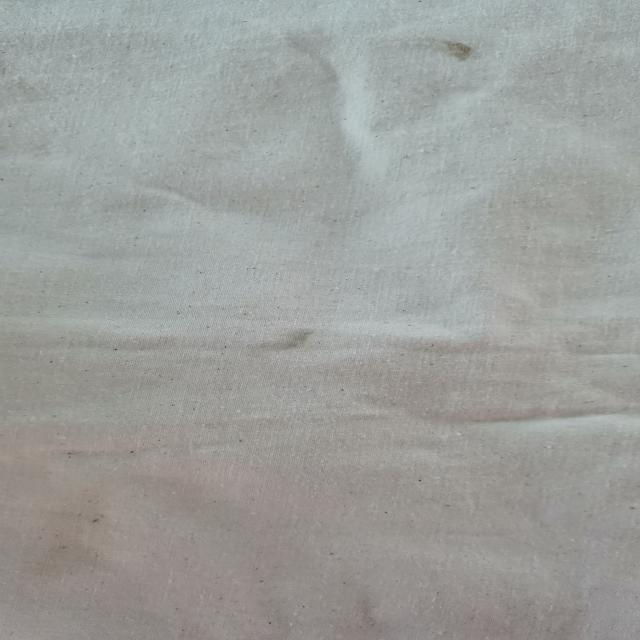taaaches: (250, 317, 335, 357), (403, 29, 489, 67)
